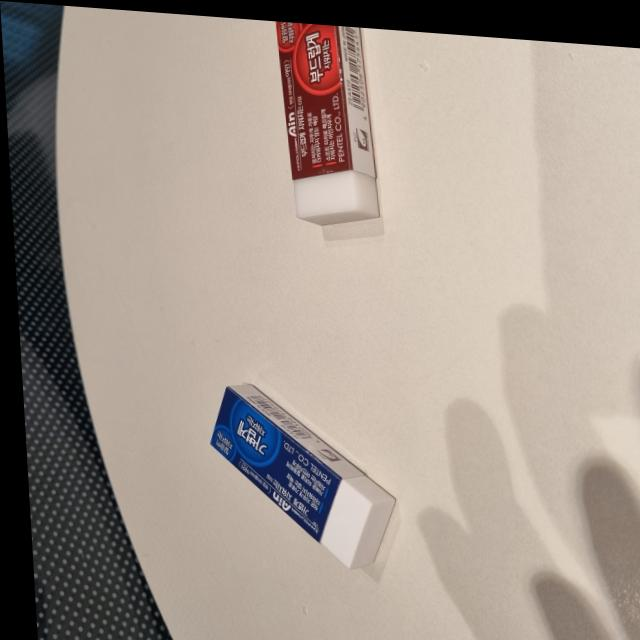blue: (197, 372, 398, 570)
red: (275, 16, 377, 230)
